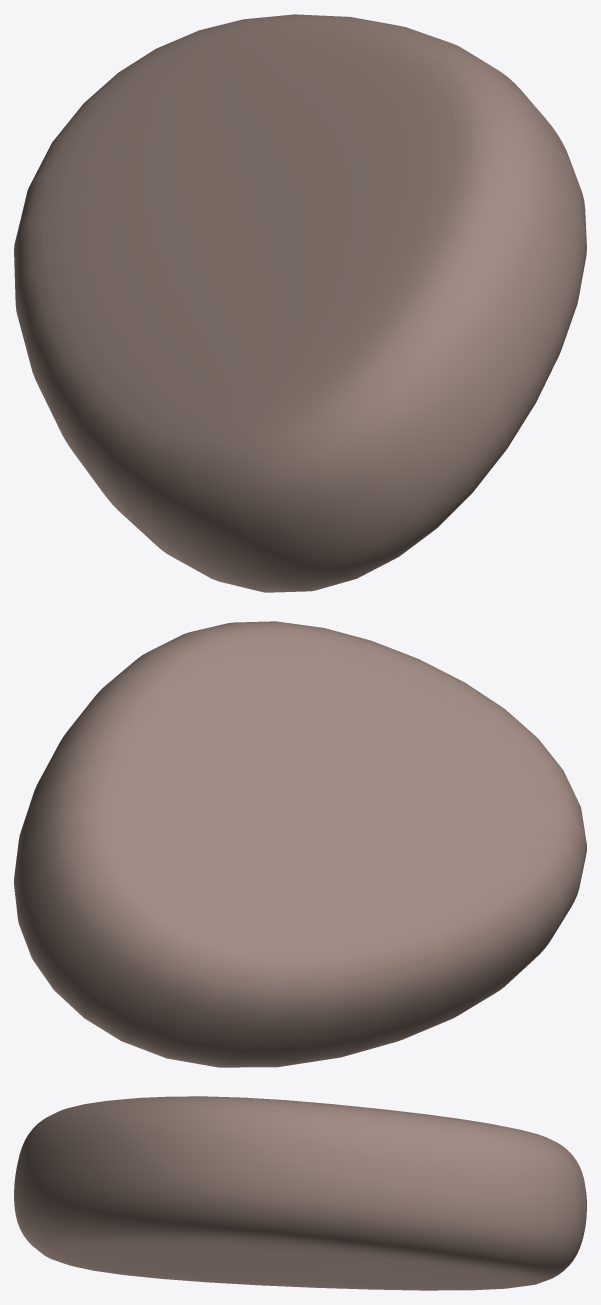
File: Piedra1C.fbx
3 renders of one model, top to bottom at view 1: azimuth 30°, elevation 25°; view 2: azimuth 150°, elevation 25°; view 3: azimuth 270°, elevation 25°, orthographic. The views are drawn at different scales.
Parts seen in each view (by area): view 1: Circle.007; view 2: Circle.007; view 3: Circle.007.
Boxes of the visible parts, x1,y1,x2,y2 form: Circle.007: (14, 14, 586, 592); Circle.007: (14, 621, 586, 1067); Circle.007: (14, 1096, 586, 1290).
Bounding box in the file's own units: 322 × 251 × 473.
